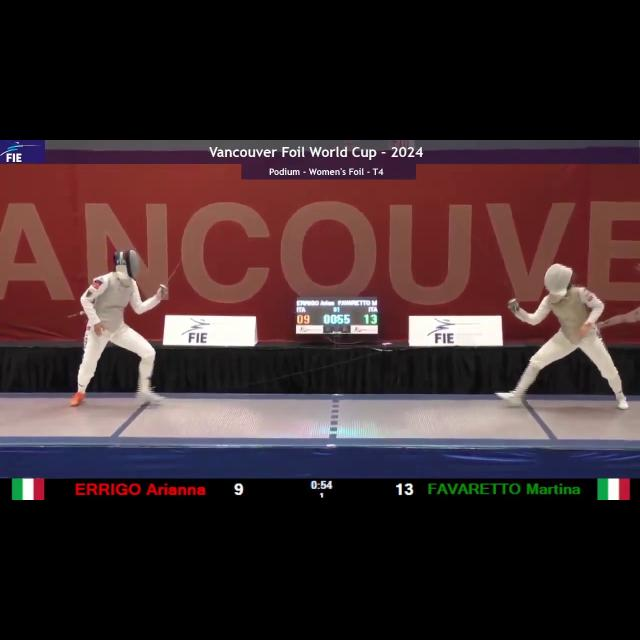blade: (159, 258, 185, 294)
